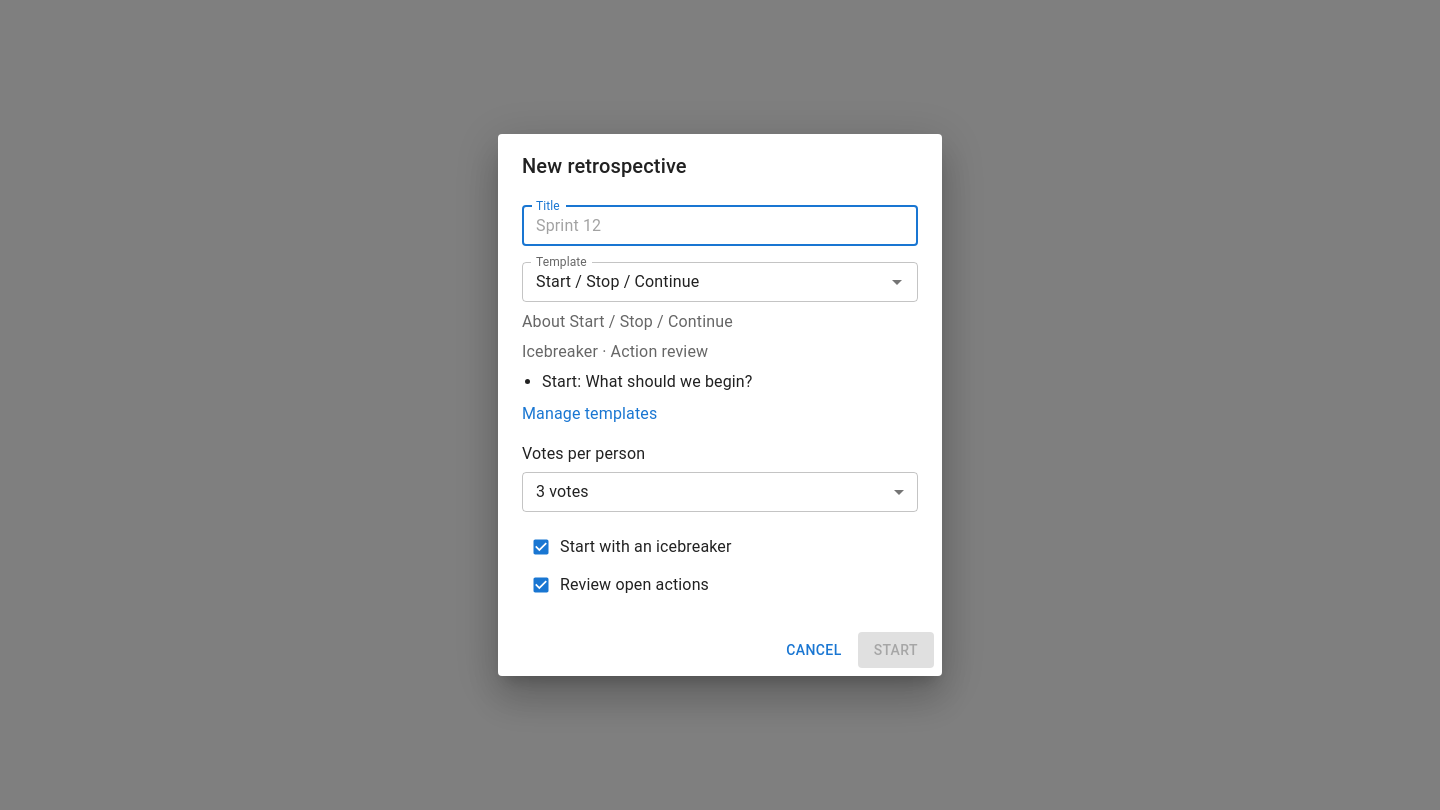
Test case: NewRetroDialog › hides the team group when the team has no template
Press the mouse on the dropdown labelled "Template" at (704, 282), box [528,268,879,296]
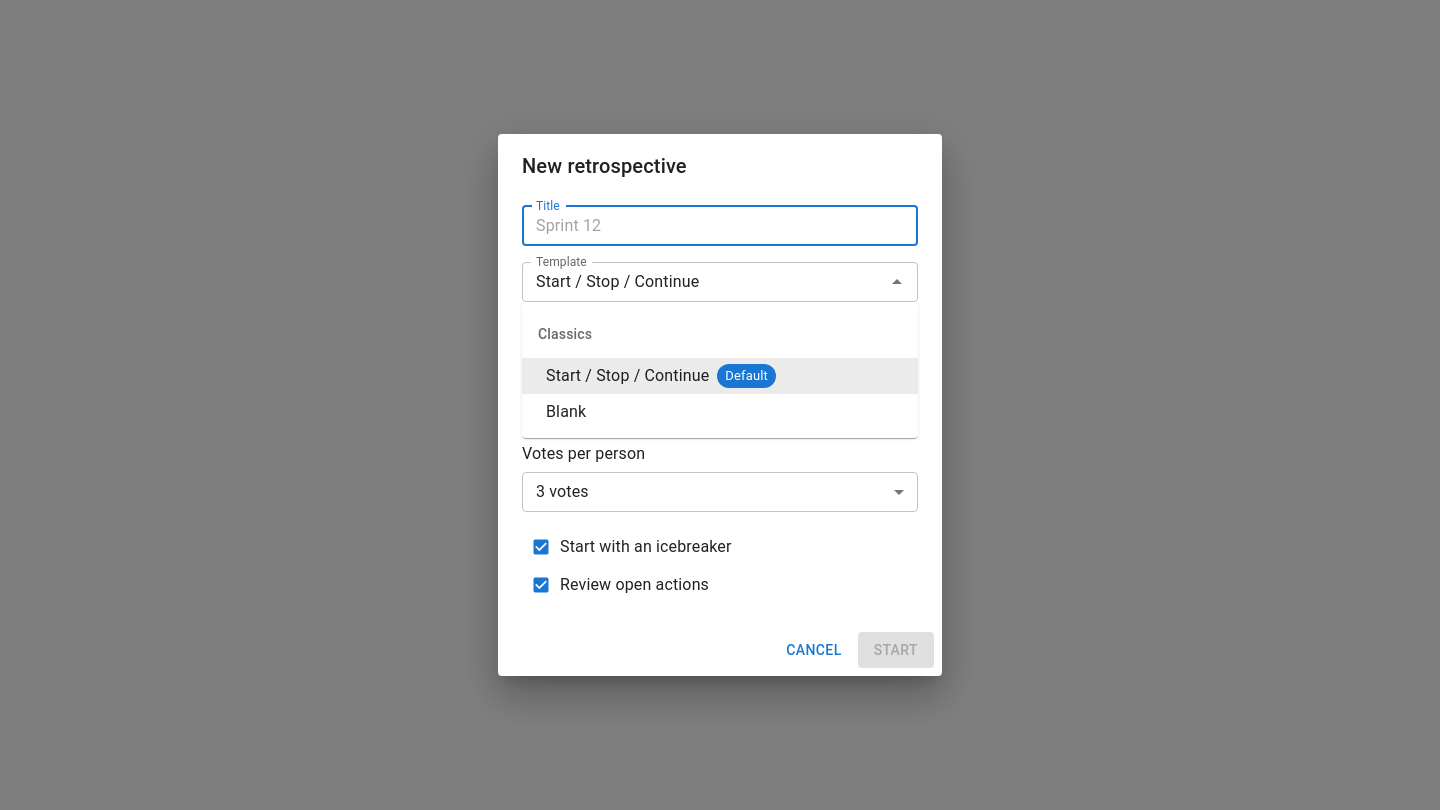
Result: the text "Classics" is shown at [522,310,918,358]
